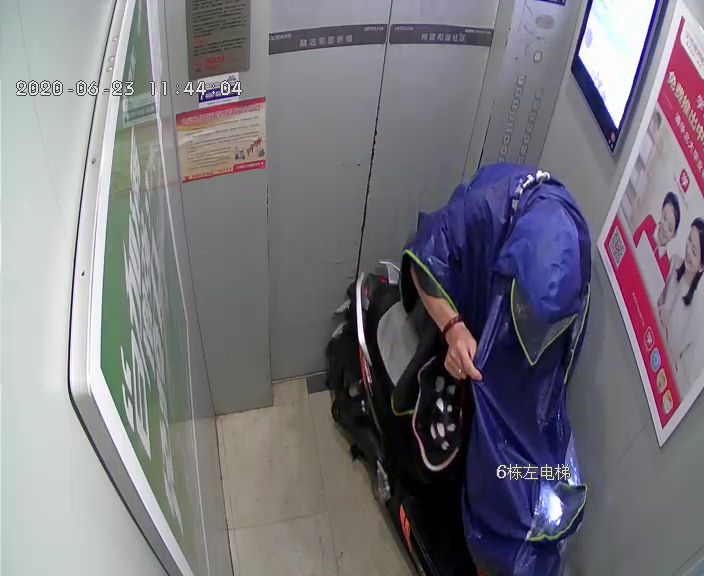Electric-bicycle: (345, 265, 593, 573)
